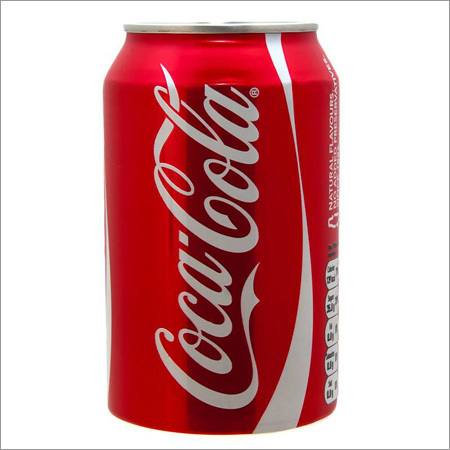can: (101, 18, 344, 444)
